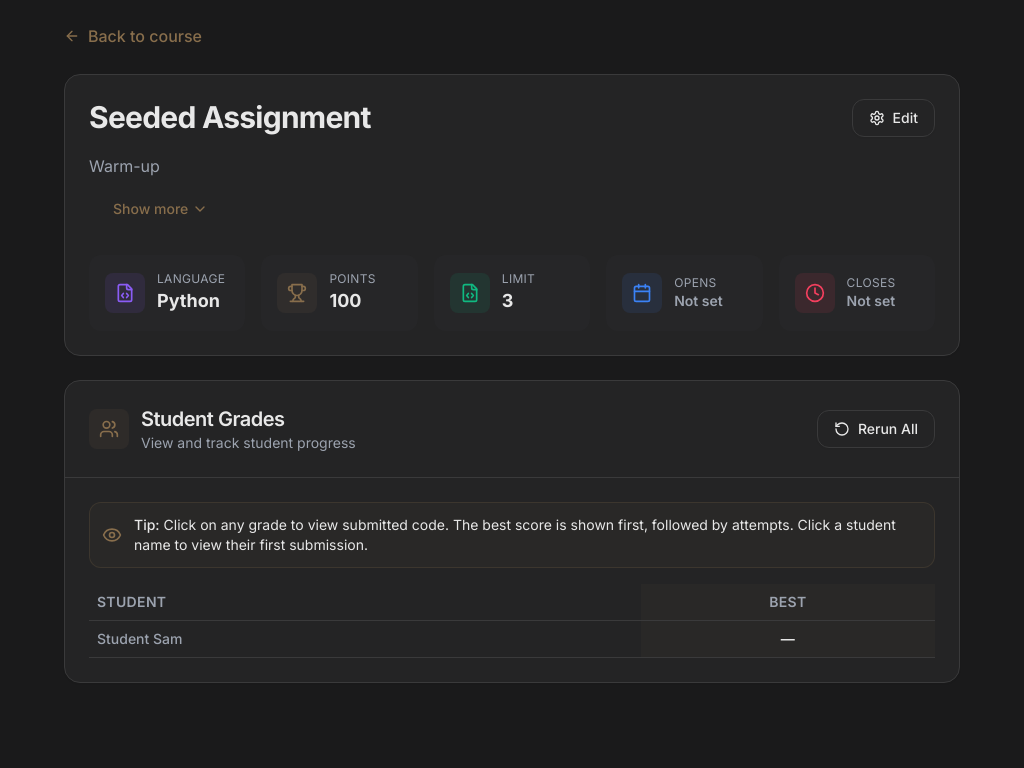
Test case: AssignmentDetailPage (MSW, updated) › faculty view: displays instructions when expanded
This screenshot has width=1024, height=768.
Click the button "Show more" at x=161, y=209, box left=89, top=187, right=232, bottom=231
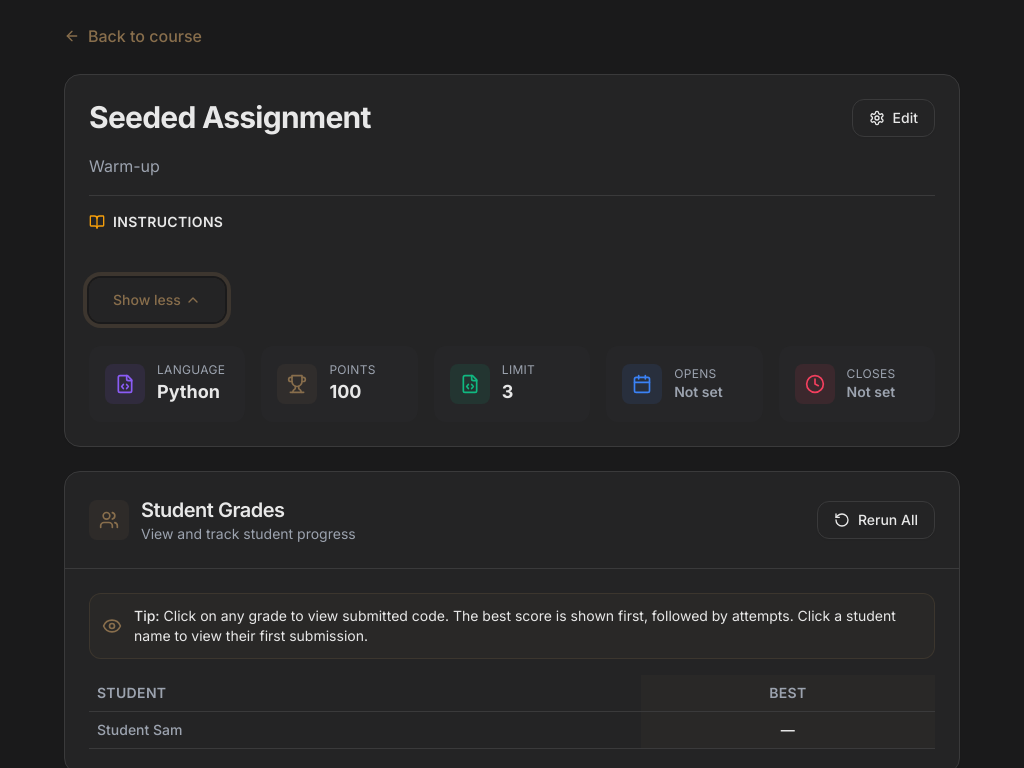
Now the heading "Instructions" is shown, box left=113, top=212, right=223, bottom=232
